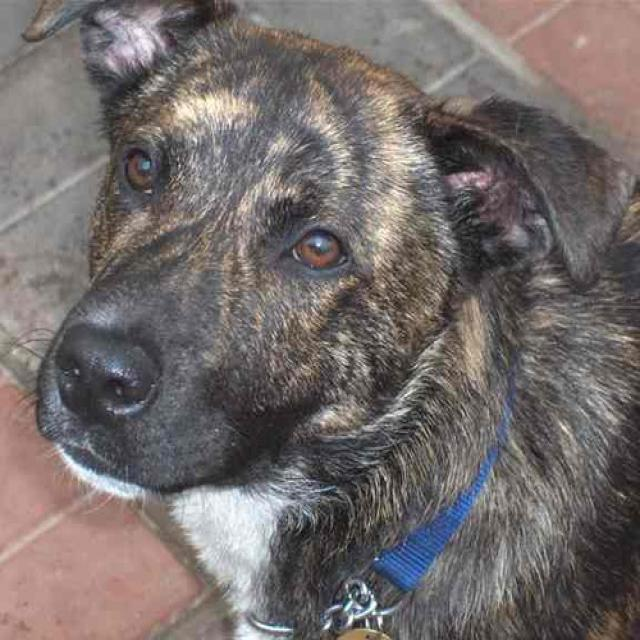dog-staffordshire_bull_terrier: (20, 1, 637, 637)
